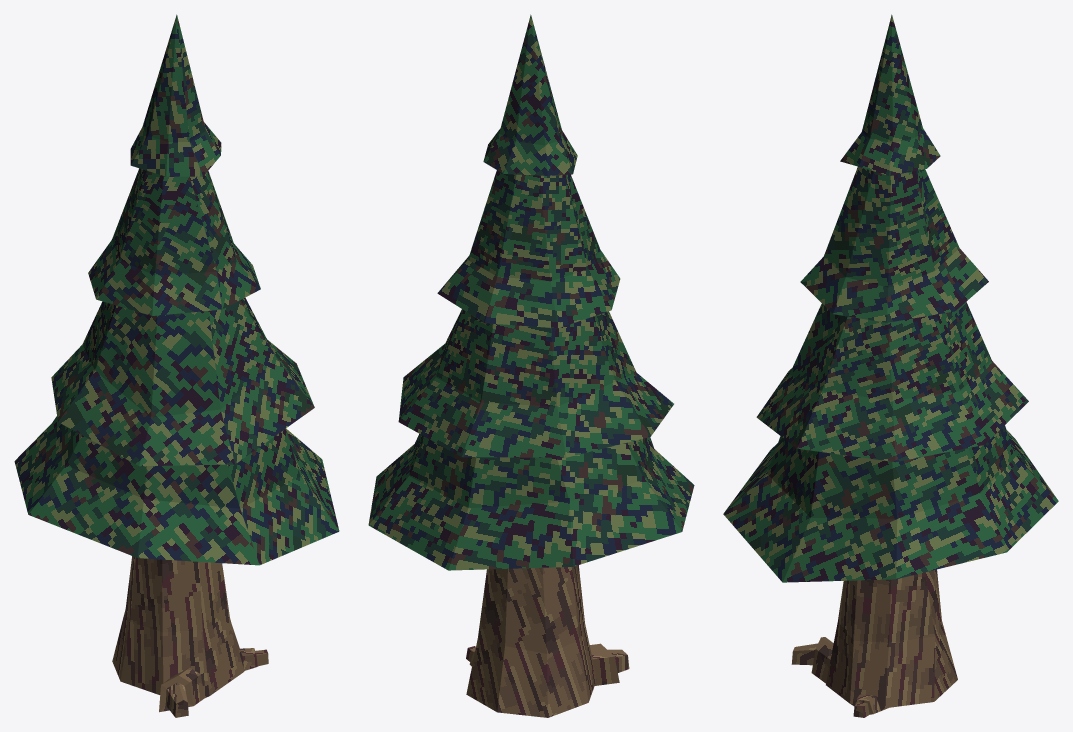
File: tree_tall.fbx
The picture shows the model from 3 angles, left to right: view 1: azimuth 30°, elevation 25°; view 2: azimuth 150°, elevation 25°; view 3: azimuth 270°, elevation 25°; orthographic projection. The views are drawn at different scales.
Visible parts, largest first — view 1: Large_Tree; view 2: Large_Tree; view 3: Large_Tree.
Boxes of the visible parts, x1,y1,x2,y2 form: Large_Tree: (14,14,339,717); Large_Tree: (368,14,694,717); Large_Tree: (723,14,1058,717).
Size of the model in its own units: 531 by 1140 by 514.
